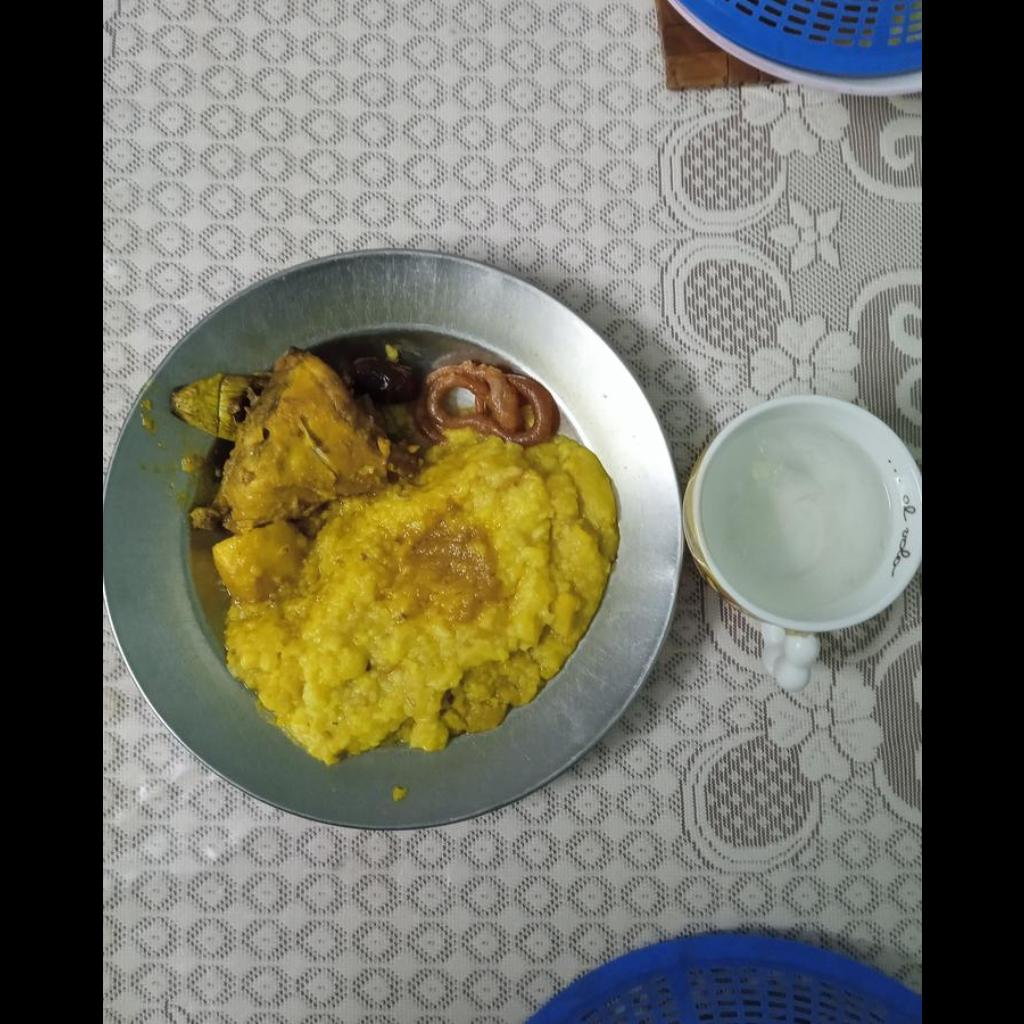chicken: (170, 353, 392, 533)
dates: (345, 357, 419, 404)
jilapi: (431, 357, 545, 445)
juice: (699, 416, 893, 610)
khichuri: (228, 433, 618, 758)
potato: (212, 520, 307, 604)
